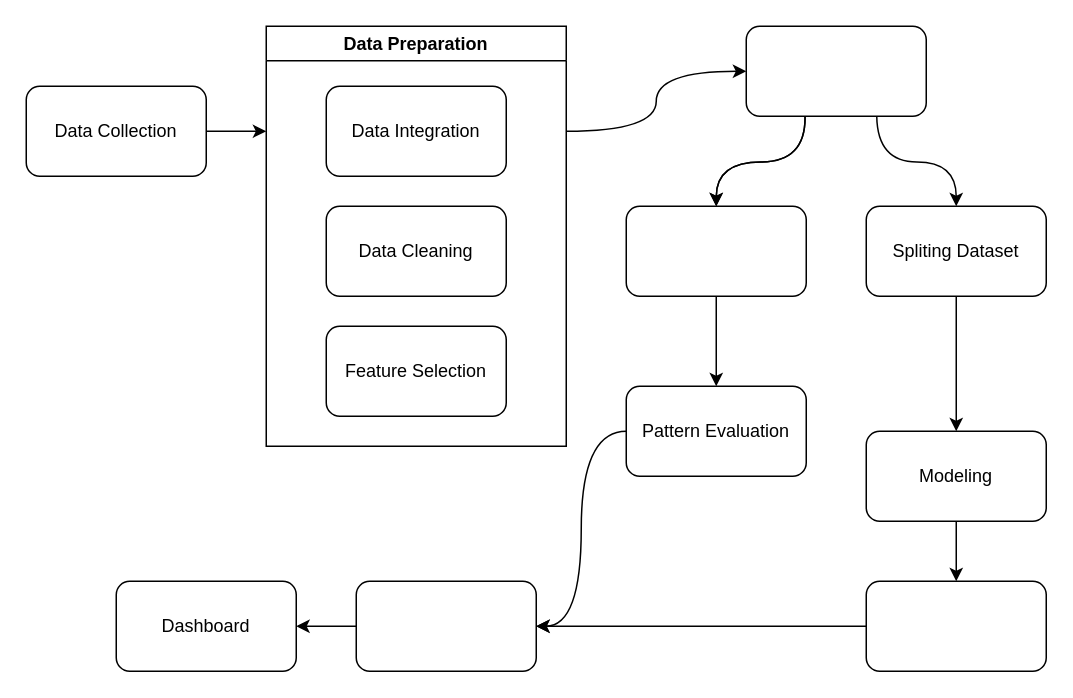
Some shapes in this 1073 by 698 pixel diagram are drawn without their labels. Each missing label, with the centre of its shape:
"Final Data" goes at [835,70].
"Model Evaluation" goes at [955,625].
"Result" goes at [445,625].
"Statistical analysis" goes at [715,250].
